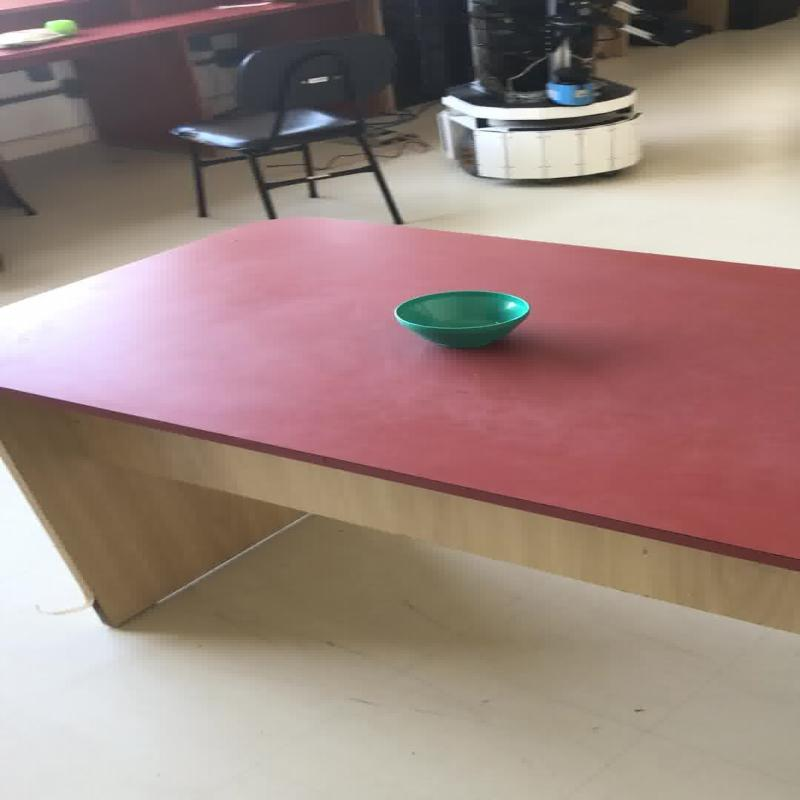bowl: (392, 289, 530, 348)
